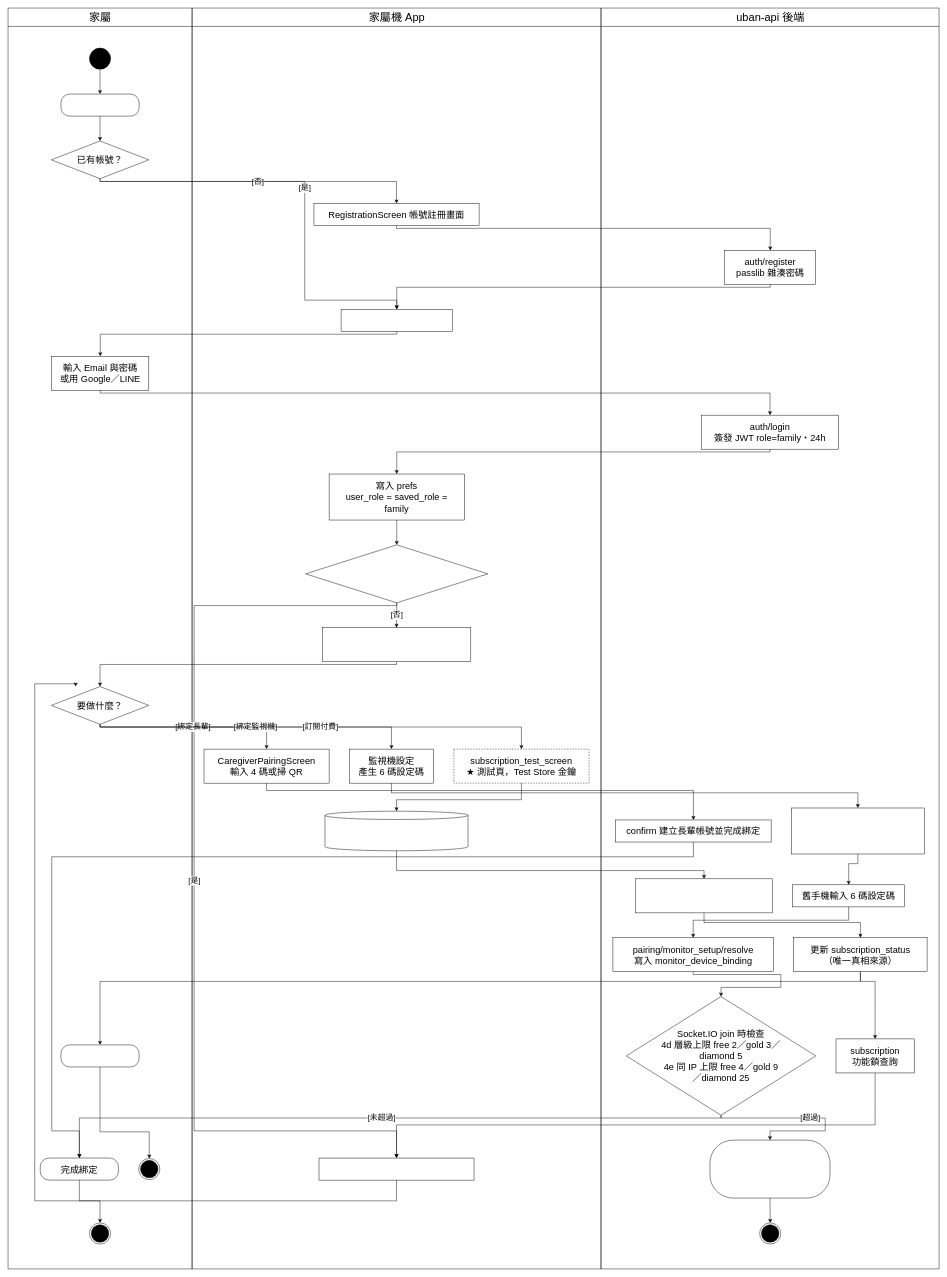
Some shapes in this 947 by 1277 pixel diagram are drawn without their labels. Each missing label, with the centre of its shape:
emit join-failed reason: monitor-limit ／ip_limit_exceeded 並中斷連線: [770,1169]
FamilyMainScreen 家屬端主畫面: [396,1169]
FamilyOnboardingScreen 家屬 新手導覽: [396,644]
has_paired_elder 是否已綁定 長輩？: [396,573]
LoginScreen 登入畫面: [396,320]
pairing/monitor_setup 產生 6 碼設定碼 · 15 分鐘 效期內可重複兌換: [857,831]
RevenueCat 訂閱金流服務・觸 發後端 webhook: [396,831]
webhook 寫入訂閱真相・更新 subscription_status: [704,895]
訂閱生效: [99,1055]
開啟 App: [99,105]
